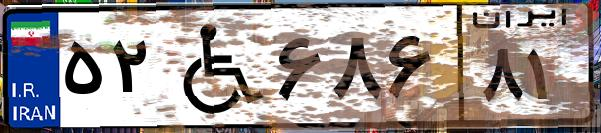1: (525, 38, 570, 115)
2: (110, 28, 158, 98)
5: (57, 26, 110, 100)
6: (270, 28, 330, 110), (385, 28, 445, 110)
8: (330, 28, 385, 110), (475, 38, 525, 113)
ژ (معلولین و جانبازان): (158, 12, 270, 120)
